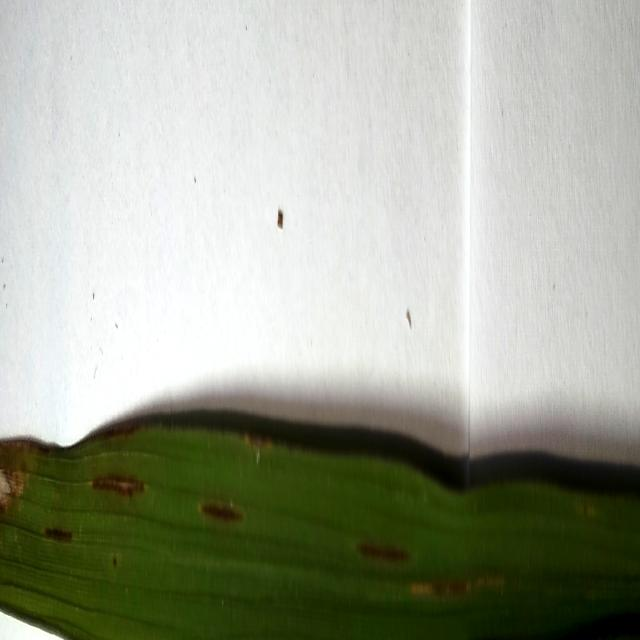NBS: (357, 537, 408, 564), (93, 475, 143, 500), (202, 498, 245, 526), (43, 522, 74, 542)
